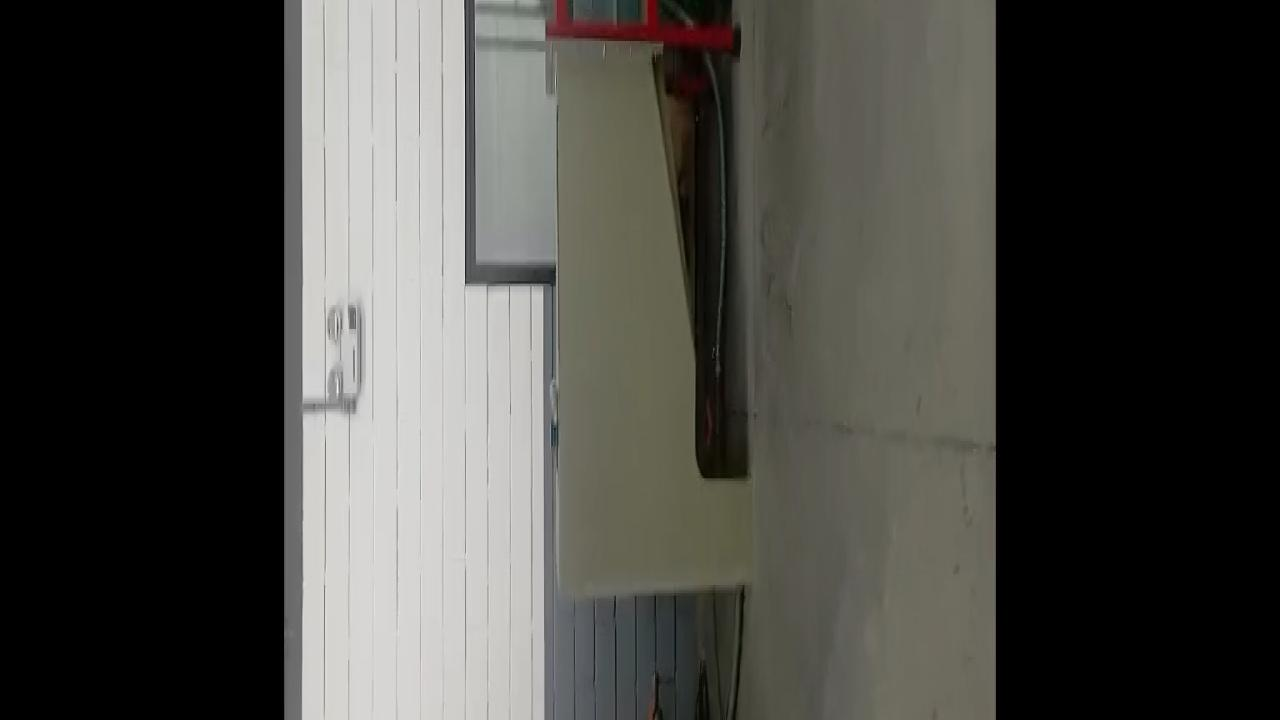Cube: (550, 420, 558, 448)
